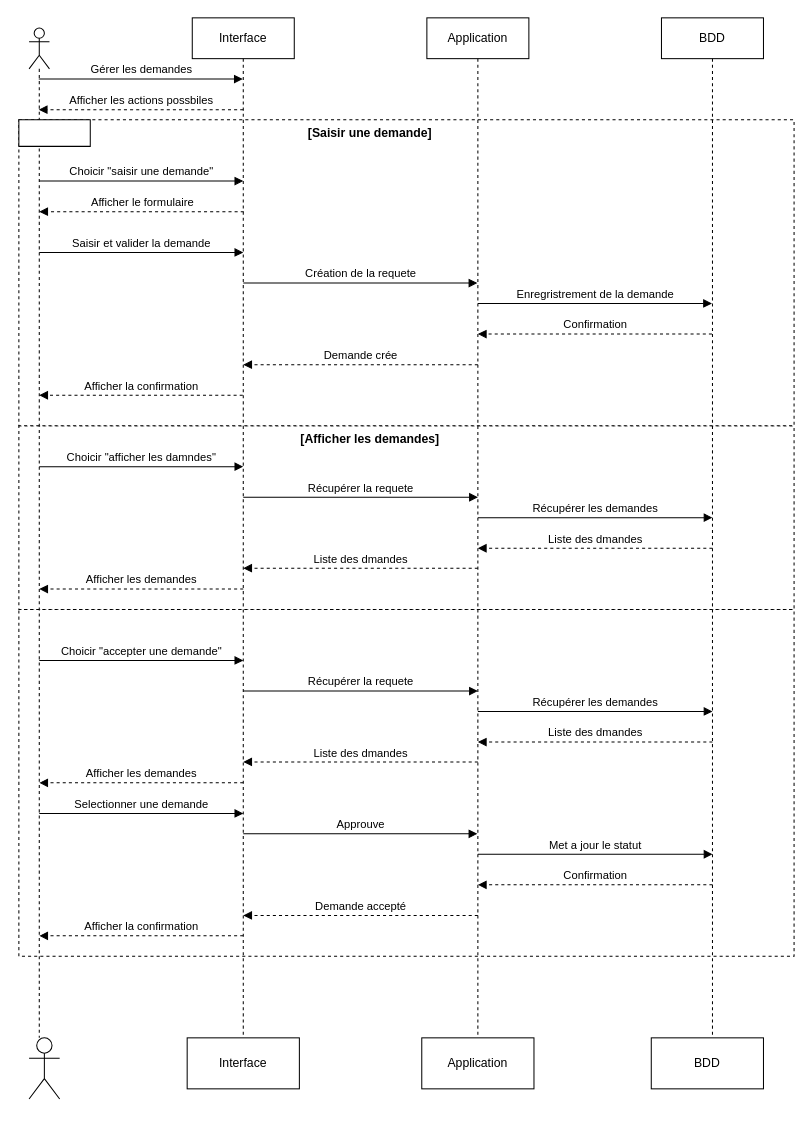
The diagram is 812 pixels wide and 1138 high, and some of its shapes have lost their labels. The centre of each missing label's shape, as x and y in pixels:
alt: the point at 54,132
Utilisateur: the point at 44,1068
